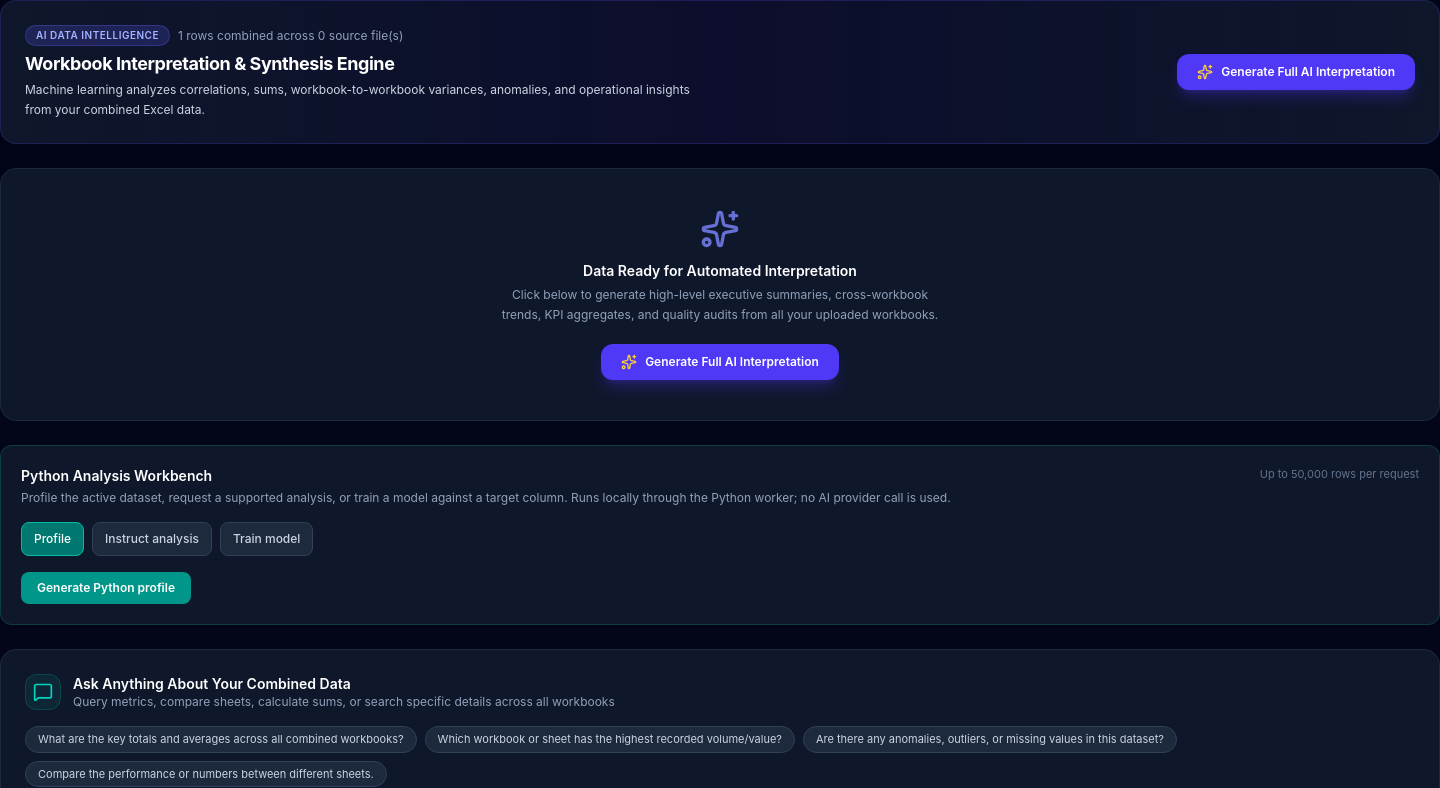
Test: DataInterpreterView Python workbench › sends the selected target to the supervised model endpoint
Click the button "Train model": (267, 539) left=220, top=522, right=313, bottom=556
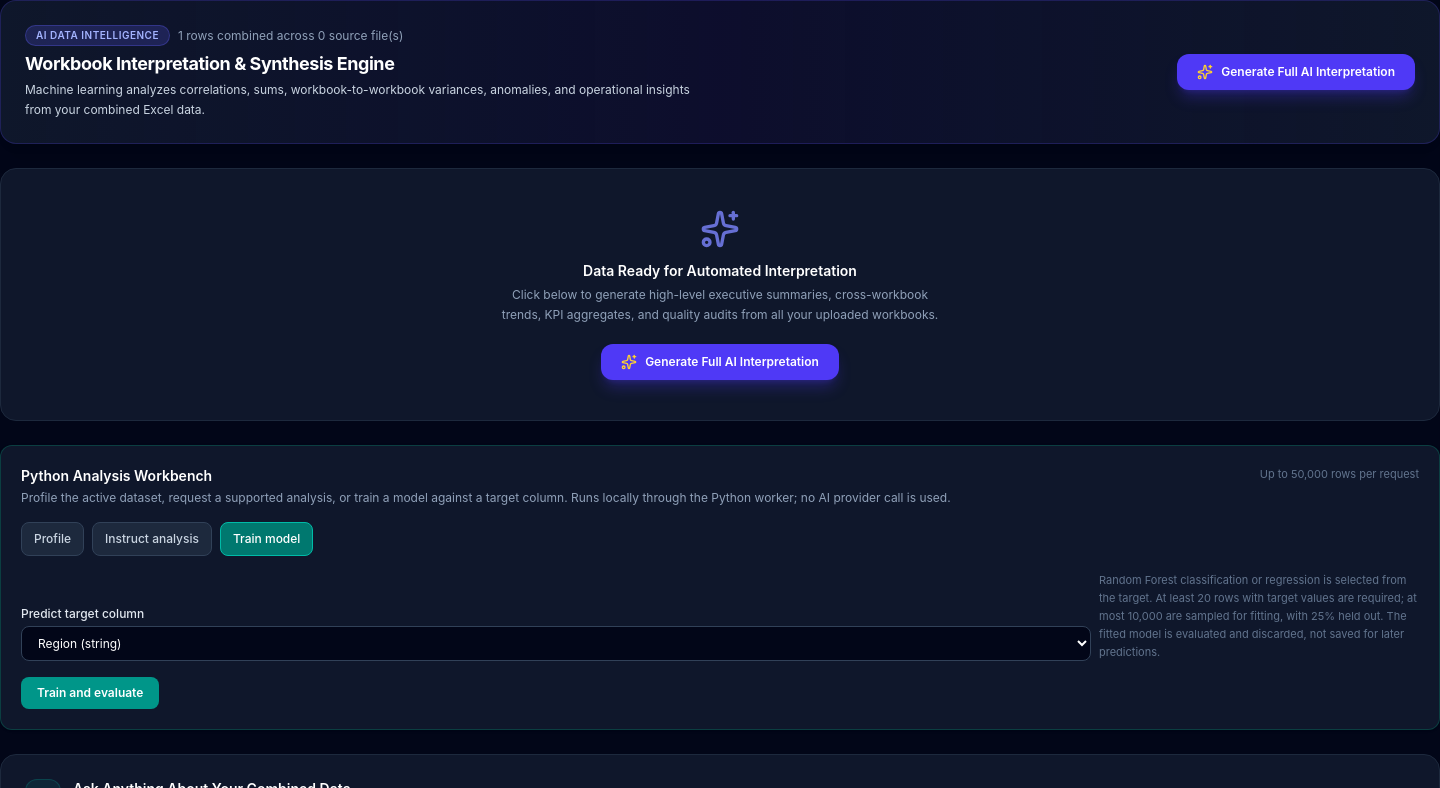
Select "Revenue (currency)" in the dropdown labelled "Predict target column": (556, 644) left=21, top=626, right=1091, bottom=661
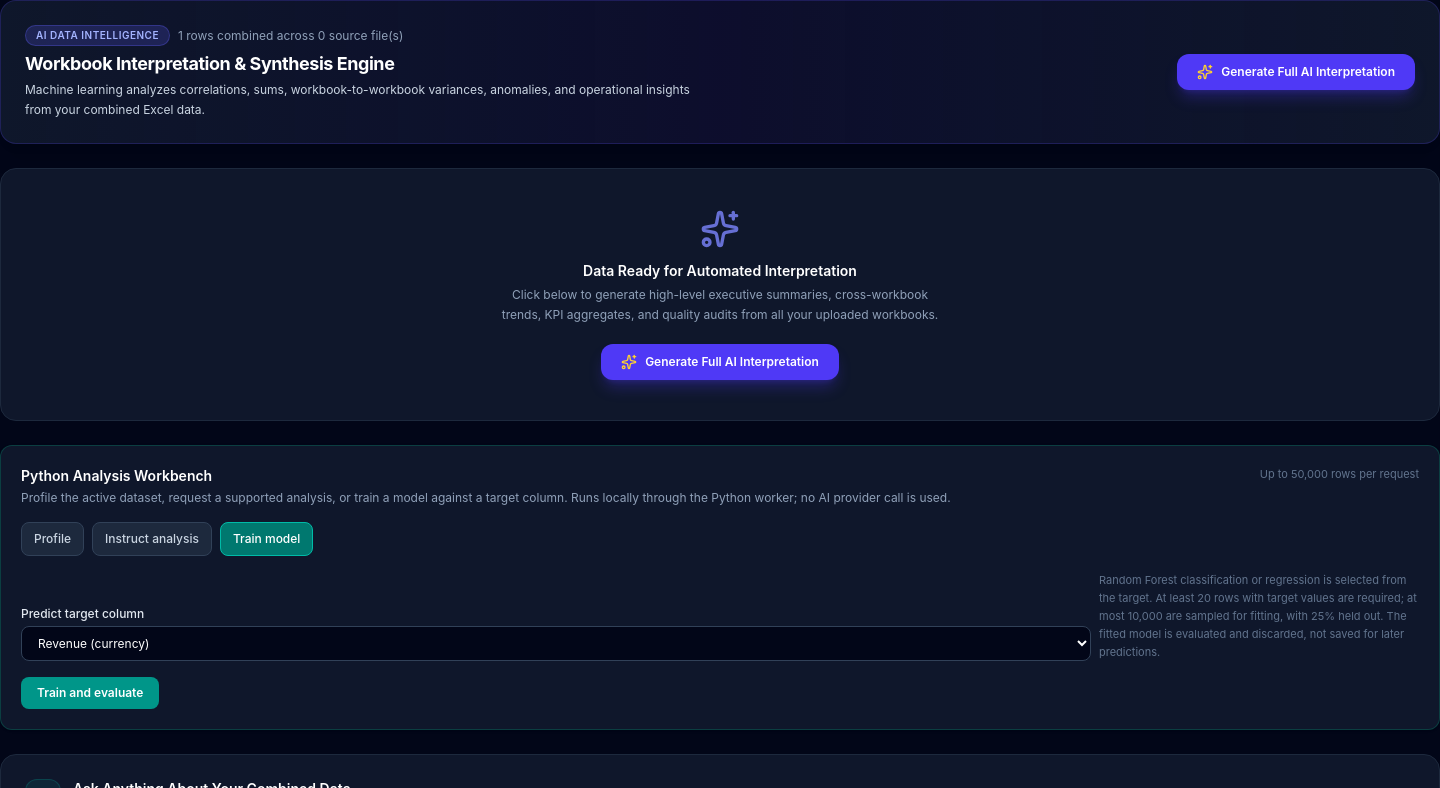
Click the button "Train and evaluate": (90, 693) left=21, top=677, right=159, bottom=709
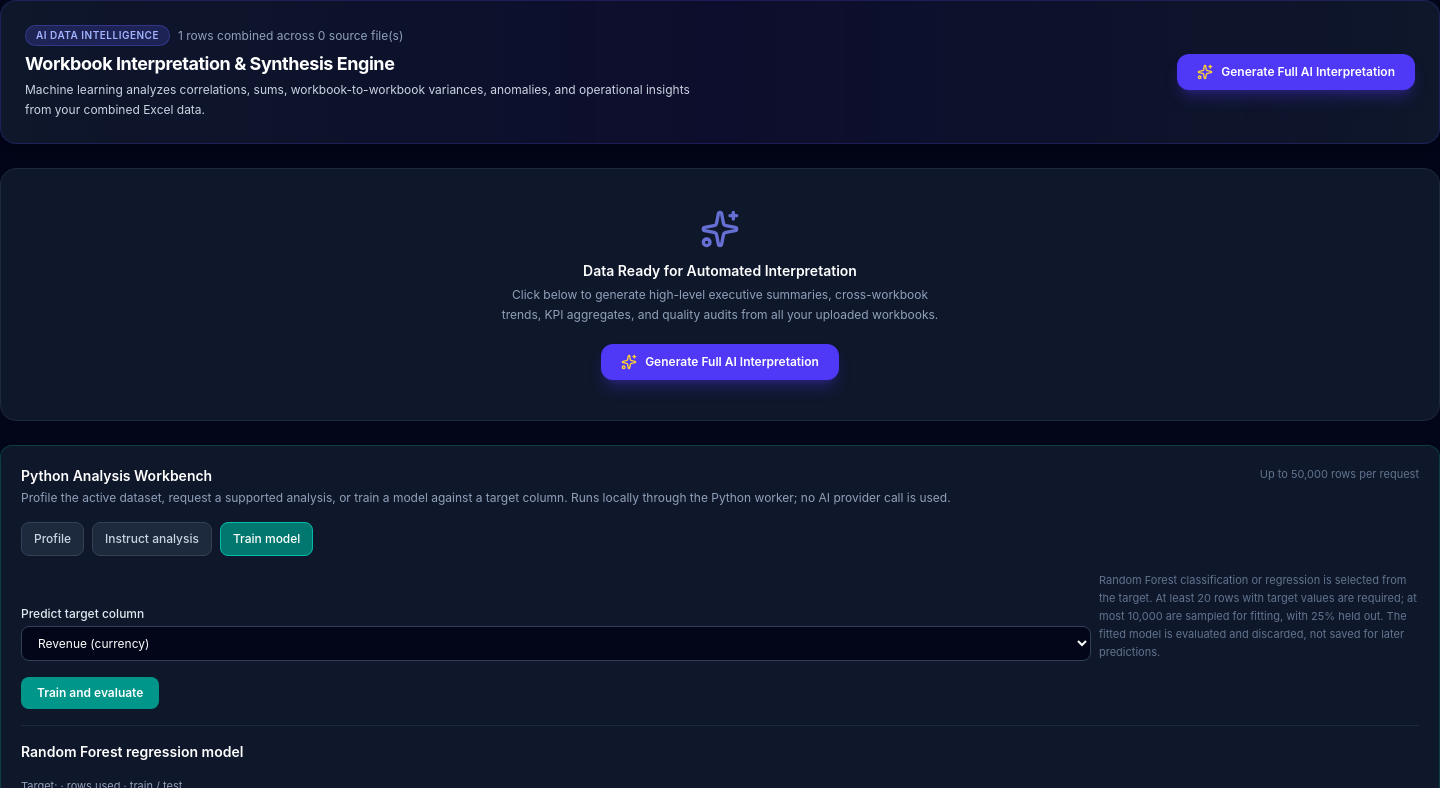
Expected: the heading "Random Forest regression model" is shown, left=21, top=743, right=243, bottom=760
